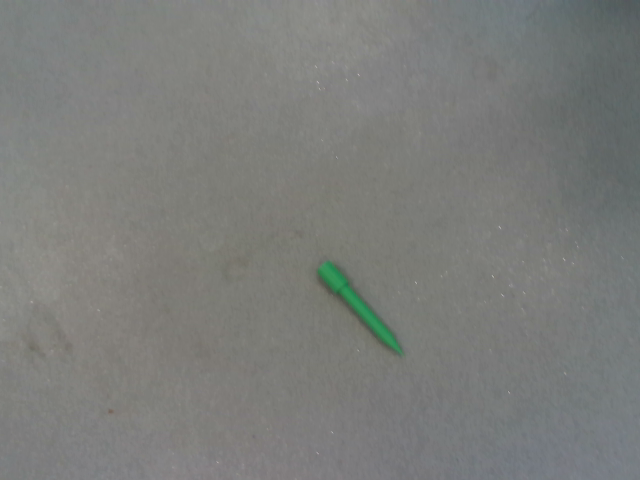Probe: (312, 256, 409, 359)
